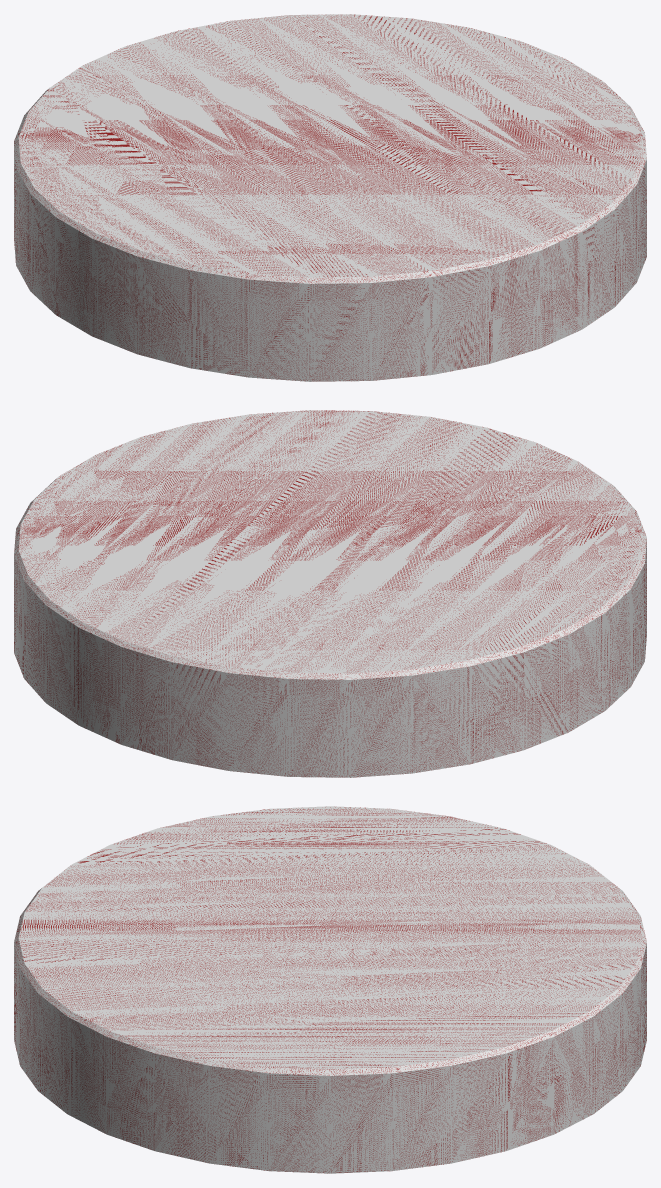
File: original-2.obj
3 views of the same model, one above another, from view 1: azimuth 30°, elevation 25°; view 2: azimuth 150°, elevation 25°; view 3: azimuth 270°, elevation 25° (orthographic).
Visible parts, largest first — view 1: mesh1/mesh1-geometry#mesh1-geometry; view 2: mesh1/mesh1-geometry#mesh1-geometry; view 3: mesh1/mesh1-geometry#mesh1-geometry.
Boxes of the visible parts, bbox=[...] form: mesh1/mesh1-geometry#mesh1-geometry: bbox=[14, 14, 646, 381]; mesh1/mesh1-geometry#mesh1-geometry: bbox=[14, 410, 646, 777]; mesh1/mesh1-geometry#mesh1-geometry: bbox=[14, 806, 646, 1173].
Bounding box in the file's own units: 0.3237 × 0.0575 × 0.3237.
